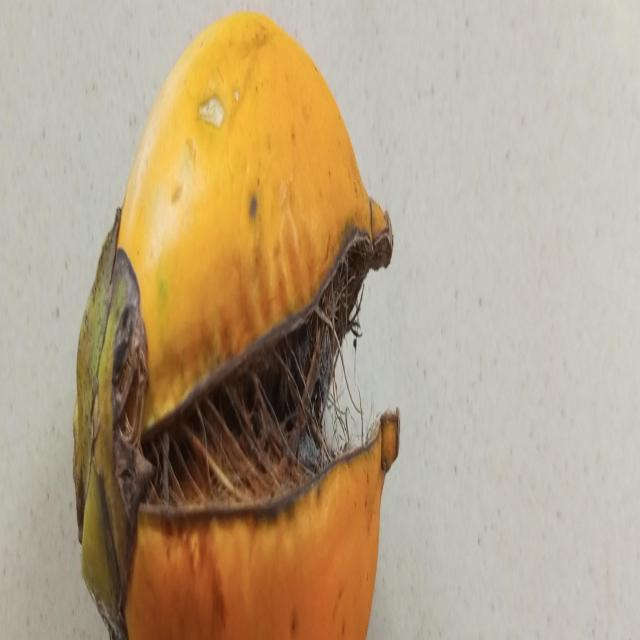damaged: (74, 11, 395, 640)
